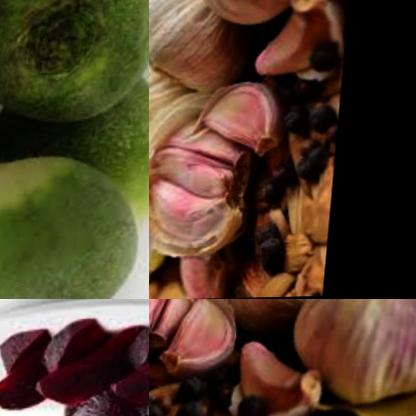beet: (0, 313, 149, 414), (58, 380, 149, 416)
garlic: (149, 68, 277, 265), (286, 299, 416, 400), (149, 0, 261, 106), (188, 71, 293, 160), (252, 0, 349, 82), (235, 337, 334, 416), (149, 299, 263, 365), (162, 299, 256, 379), (220, 299, 385, 338), (162, 0, 329, 34), (149, 37, 194, 152), (172, 238, 254, 299)
redka: (0, 68, 149, 233), (0, 157, 149, 299), (0, 0, 149, 129)
